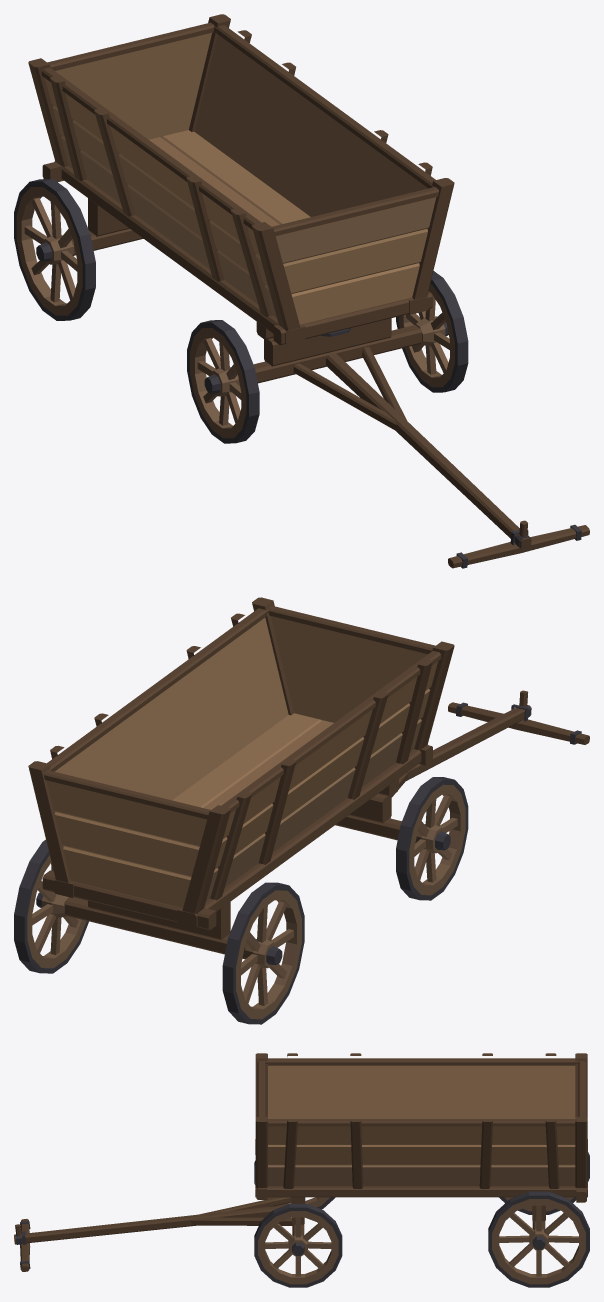
Rendered from four-wheel-wagon-adb946.glb.
3 renders of one model, top to bottom at view 1: azimuth 30°, elevation 25°; view 2: azimuth 150°, elevation 25°; view 3: azimuth 270°, elevation 25°, orthographic. The views are drawn at different scales.
Parts seen in each view (by area): view 1: wagon-body, steer-front-mesh, wheel-rr-mesh, wheel-fr-mesh, wheel-fl-mesh; view 2: wagon-body, wheel-rr-mesh, wheel-fr-mesh, steer-front-mesh, wheel-rl-mesh; view 3: wagon-body, wheel-rl-mesh, wheel-fl-mesh, steer-front-mesh, wheel-rr-mesh, wheel-fr-mesh.
Part boxes in pixels (x1,y1,x2,y2): wagon-body: (28, 14, 454, 345); steer-front-mesh: (253, 318, 589, 568); wheel-rr-mesh: (14, 179, 95, 320); wheel-fr-mesh: (187, 320, 259, 443); wheel-fl-mesh: (396, 271, 468, 392); wagon-body: (28, 597, 454, 959); wheel-rr-mesh: (222, 882, 304, 1024); wheel-fr-mesh: (396, 777, 468, 900); steer-front-mesh: (335, 690, 589, 840); wheel-rl-mesh: (14, 839, 88, 973); wagon-body: (255, 1053, 587, 1229); wheel-rl-mesh: (488, 1191, 589, 1287); wheel-fl-mesh: (254, 1204, 342, 1287); steer-front-mesh: (14, 1197, 304, 1271); wheel-rr-mesh: (499, 1152, 589, 1214); wheel-fr-mesh: (254, 1160, 335, 1209).
Size of the model in its own units: 2.01 by 1.83 by 5.88.
